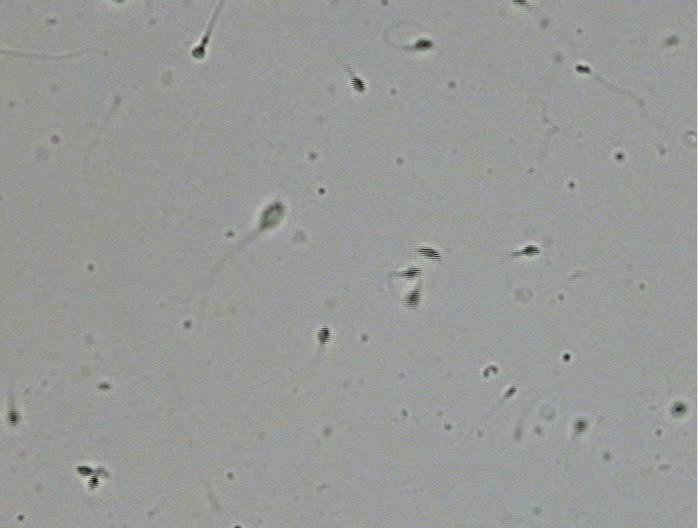S: (260, 202, 284, 228), (404, 289, 421, 308), (419, 247, 441, 261), (317, 325, 331, 345), (413, 38, 433, 51), (351, 76, 366, 92), (401, 267, 422, 278), (573, 418, 587, 433), (522, 245, 541, 256), (6, 409, 18, 426), (672, 403, 687, 416), (76, 465, 93, 476), (575, 64, 592, 74), (192, 45, 205, 58), (88, 477, 99, 489), (513, 1, 528, 7)
